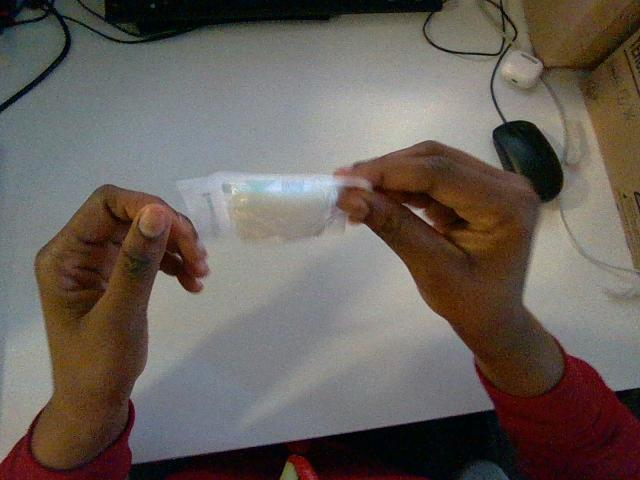gauze: (177, 172, 370, 241)
